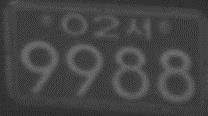0: (60, 10, 89, 37)
2: (92, 14, 119, 38)
8: (110, 45, 150, 100), (155, 47, 195, 102)
9: (64, 42, 104, 97), (20, 40, 59, 94)
서: (124, 17, 152, 40)
